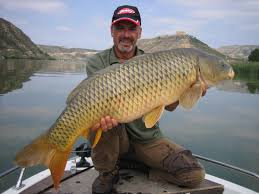carp: (13, 47, 236, 194)
